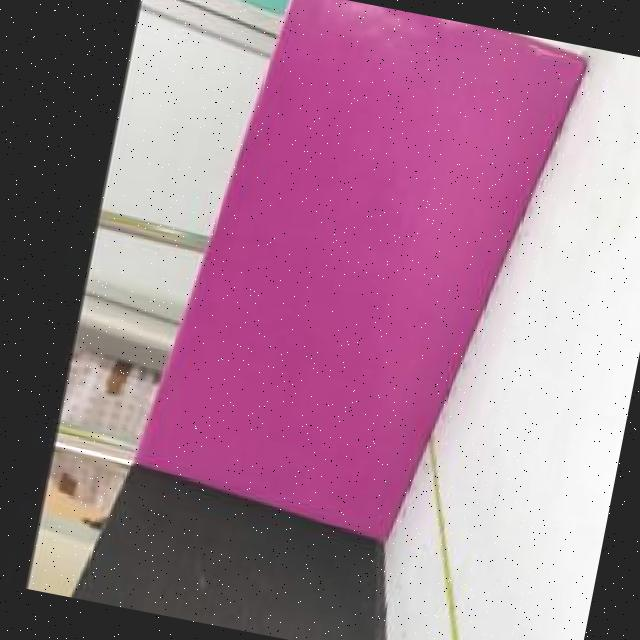xparking: (136, 0, 591, 541)
